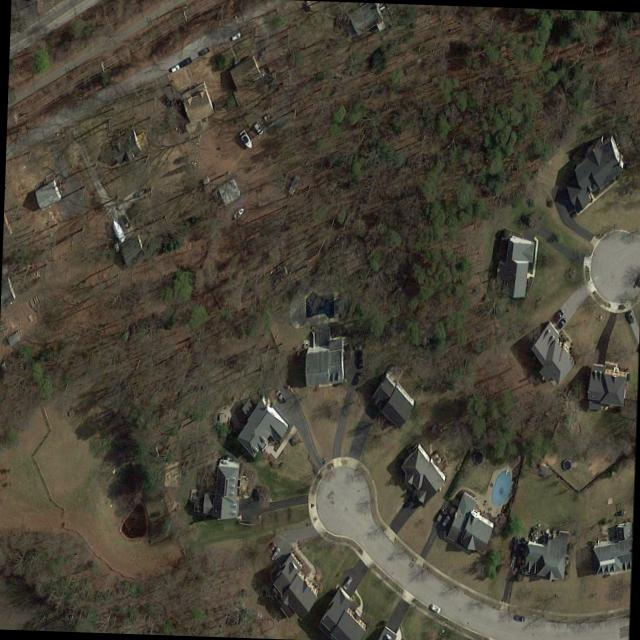ship: (237, 127, 255, 151), (110, 217, 126, 242), (232, 204, 246, 219)
small-vehicle: (551, 306, 565, 323), (117, 212, 131, 229), (351, 368, 363, 386), (133, 185, 148, 198), (265, 539, 277, 555), (178, 55, 193, 67), (274, 388, 286, 403), (269, 546, 281, 560), (343, 574, 354, 589), (441, 512, 452, 526), (253, 120, 263, 135), (355, 348, 363, 366), (197, 45, 210, 56), (436, 506, 445, 521), (230, 29, 242, 40), (556, 316, 567, 328), (626, 309, 635, 323), (429, 602, 441, 612), (513, 613, 525, 621), (171, 63, 180, 72)
